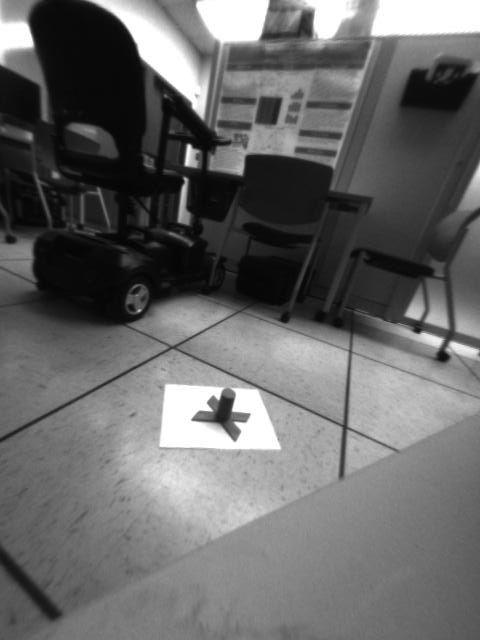X: (193, 388, 254, 442)
